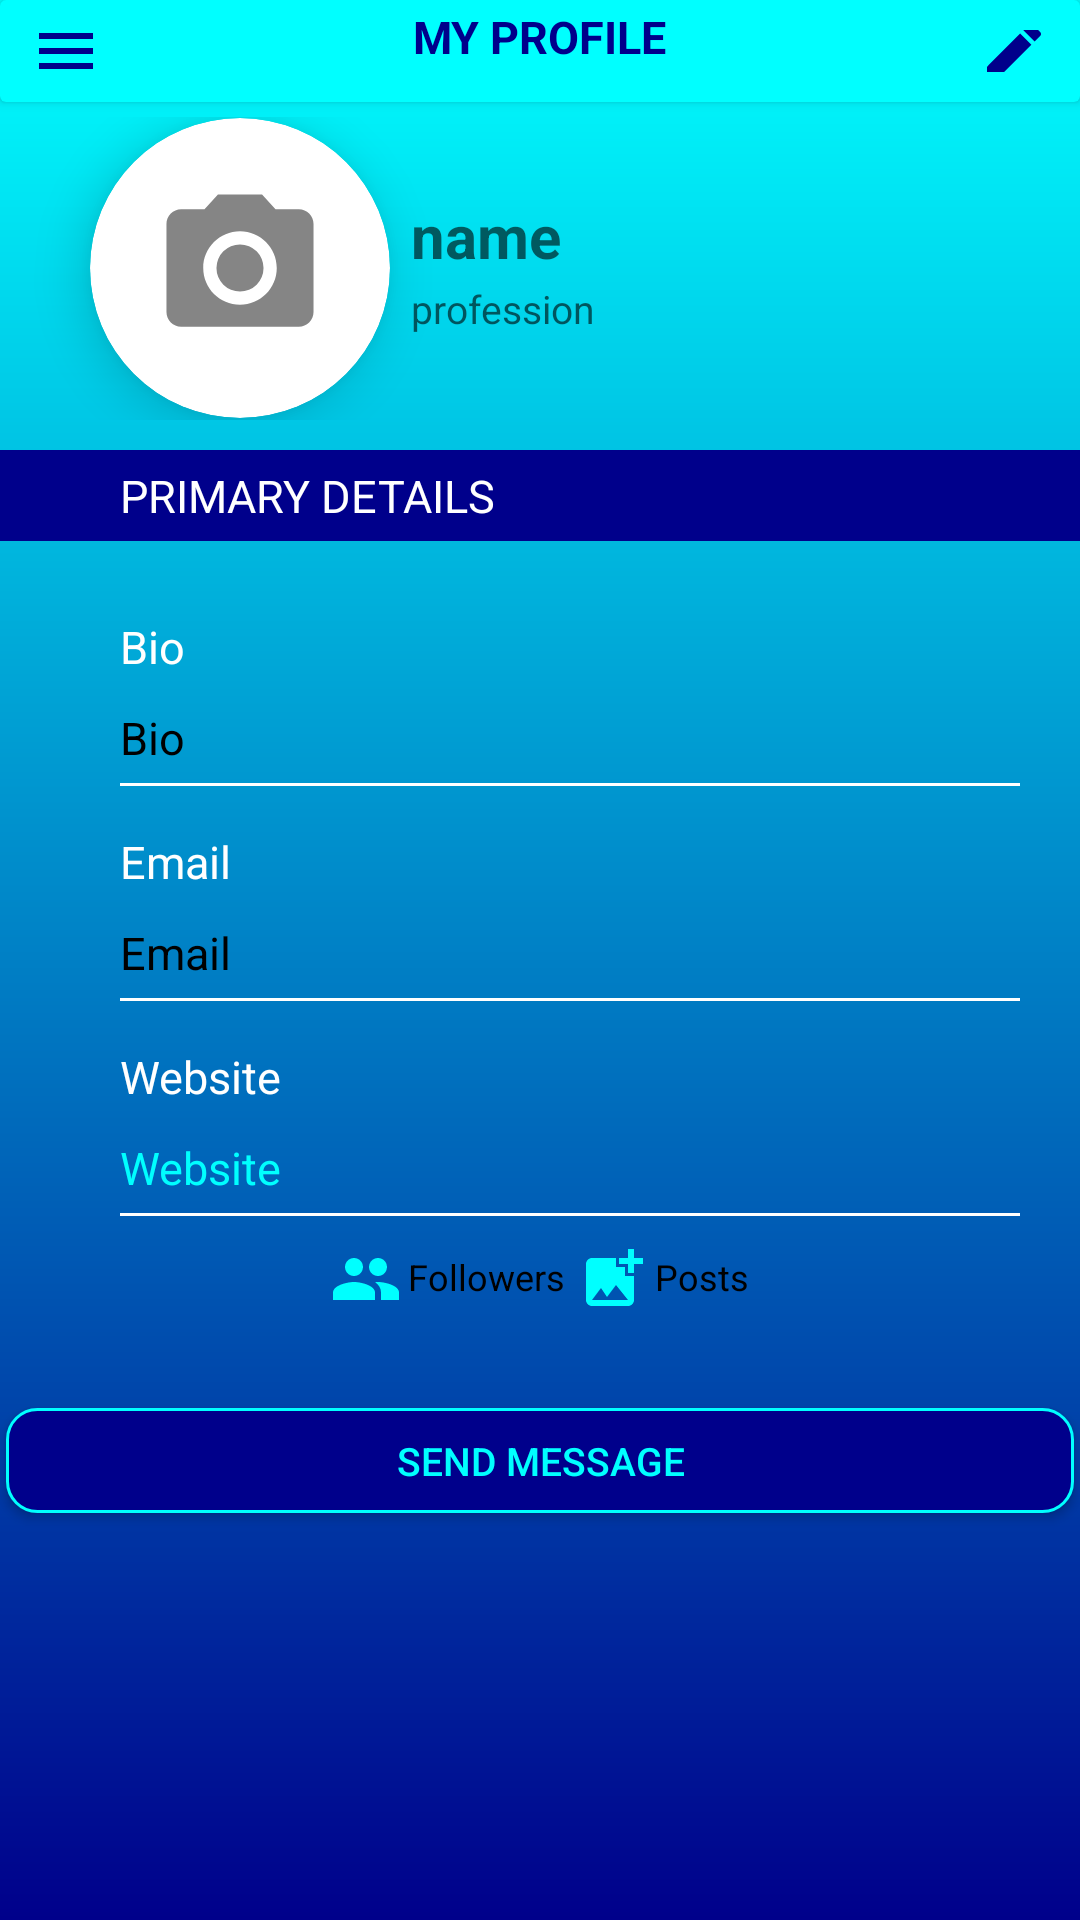

Locate icon controls on the screen. Image size 1080px x 1920px, boxes as (x1, y1, x2, y2).
edit: (987, 30, 1041, 72)
menu: (39, 33, 93, 69)
